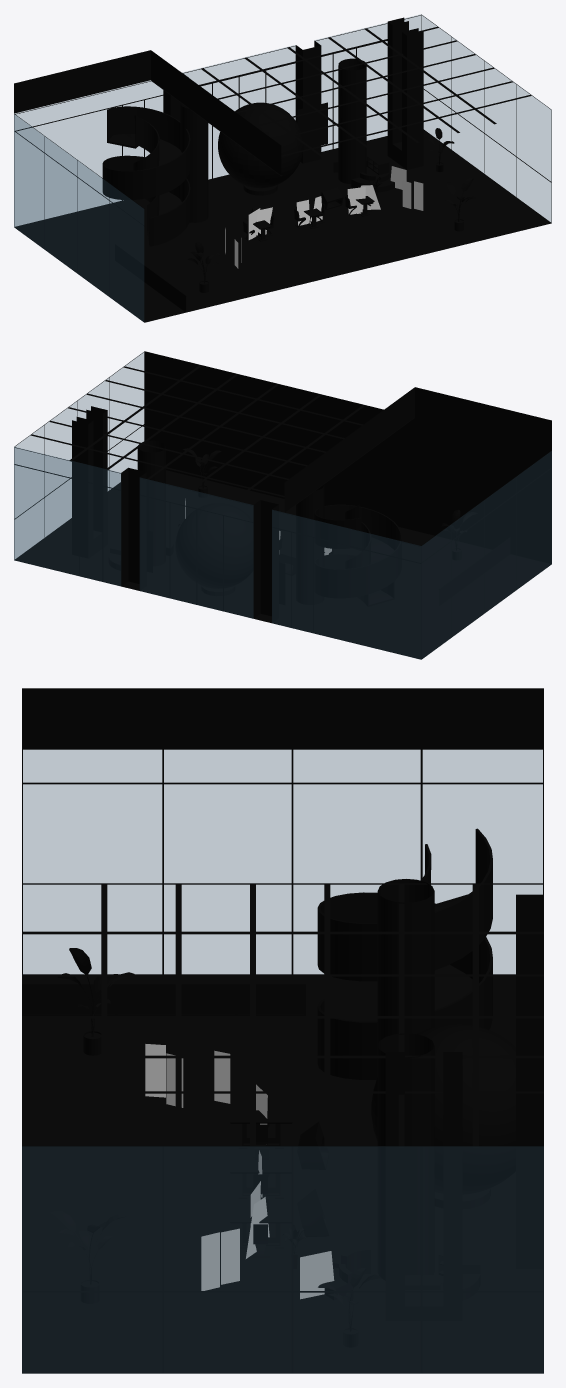
File: business.fbx
The picture shows the model from 3 angles, top to bottom: view 1: azimuth 30°, elevation 25°; view 2: azimuth 150°, elevation 25°; view 3: azimuth 270°, elevation 25°; orthographic projection. The views are drawn at different scales.
Visible parts, largest first — view 1: STO_lobby, window, pillar, STO_Props, people, Sphere_display, plant_Large, banner_2; view 2: STO_lobby, window, pillar, STO_Props, plant_Large; view 3: STO_lobby, window, pillar, STO_Props, people, plant_Large.
Part boxes in pixels (box(x1,y1,x2,y2)): STO_lobby: box(14, 15, 551, 322); window: box(14, 14, 551, 321); pillar: box(14, 14, 551, 322); STO_Props: box(218, 102, 376, 241); people: box(225, 166, 423, 268); Sphere_display: box(233, 118, 303, 184); plant_Large: box(187, 128, 475, 292); banner_2: box(297, 102, 327, 149); STO_lobby: box(14, 351, 551, 659); window: box(14, 352, 551, 659); pillar: box(14, 351, 551, 658); STO_Props: box(175, 503, 333, 595); plant_Large: box(178, 448, 477, 560); STO_lobby: box(22, 688, 543, 1373); window: box(22, 750, 543, 1373); pillar: box(22, 748, 543, 1373); STO_Props: box(230, 1024, 515, 1257); people: box(145, 1044, 334, 1299); plant_Large: box(50, 948, 381, 1347).
Size of what is drawn, in the model's own units: 2885 by 977 by 1600.
